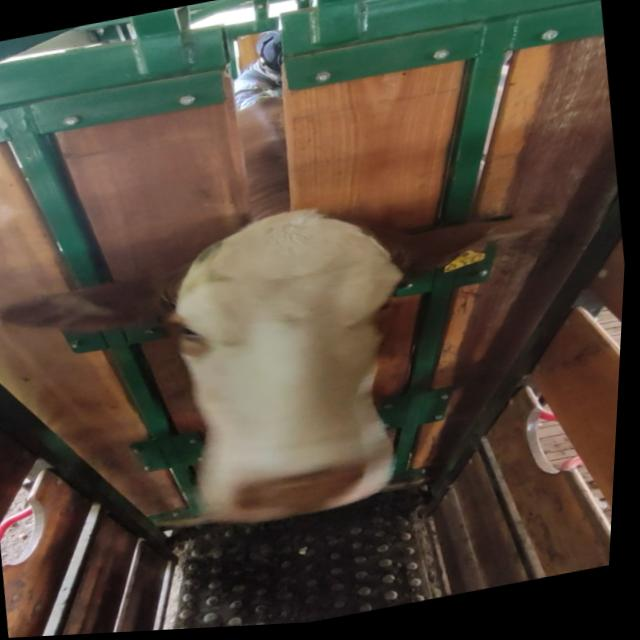cowFace: (155, 192, 443, 540)
